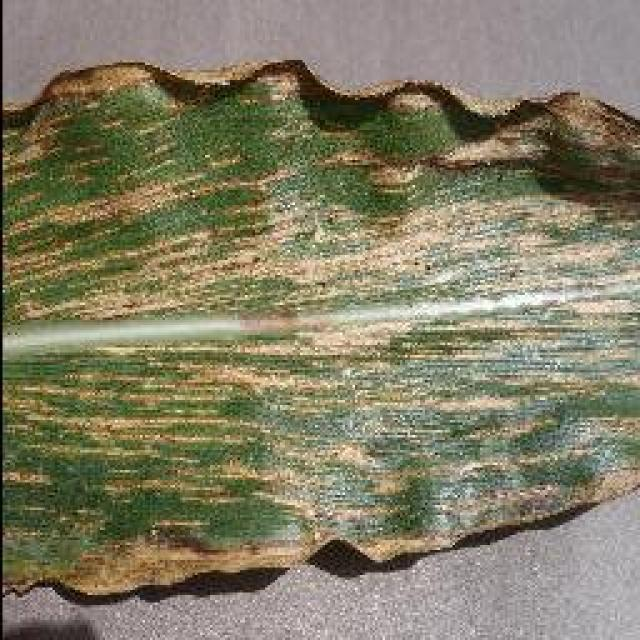Corn_Grey_Leaf_Spot: (0, 88, 640, 538)
